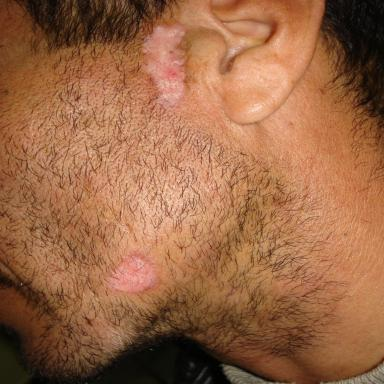Lupus-Erythematosus-Chronicus-Discoides: (143, 25, 185, 107), (108, 253, 158, 293)
